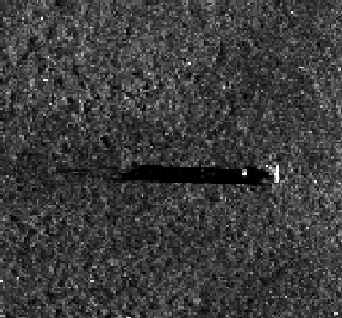ship: (121, 161, 286, 187)
